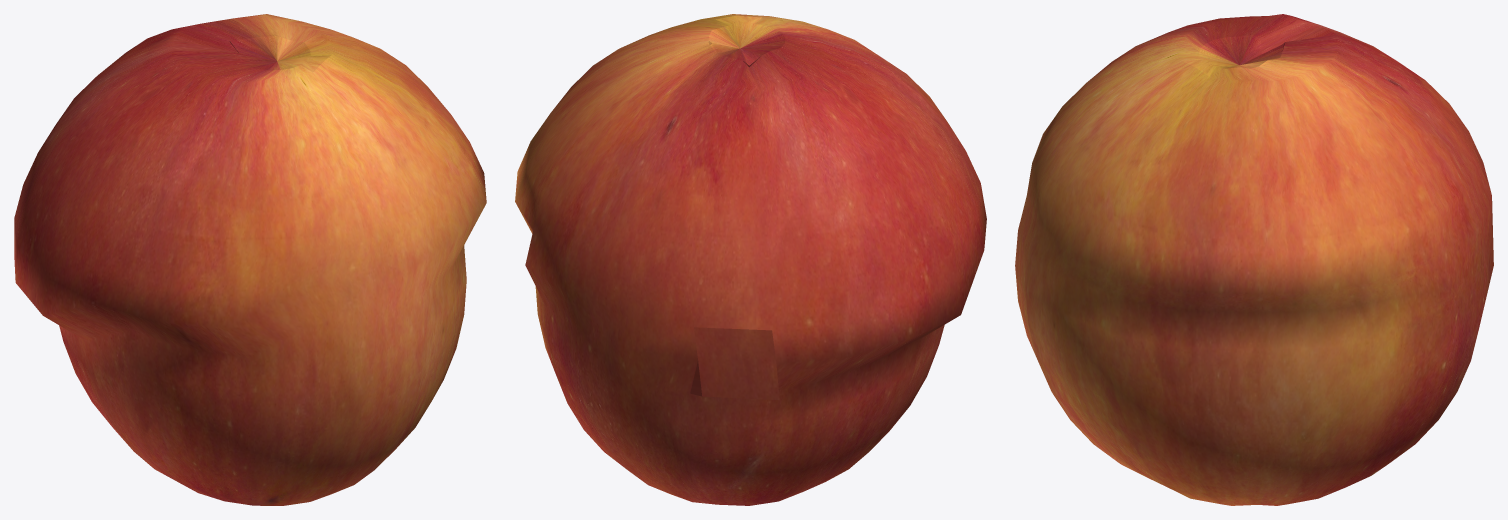
The model's file is apple2.obj.
3 views of the same model, side by side, from view 1: azimuth 30°, elevation 25°; view 2: azimuth 150°, elevation 25°; view 3: azimuth 270°, elevation 25° (orthographic).
Visible parts, largest first — view 1: pSphere1; view 2: pSphere1; view 3: pSphere1.
Boxes of the visible parts, x1,y1,x2,y2 form: pSphere1: [14, 14, 486, 505]; pSphere1: [515, 14, 986, 505]; pSphere1: [1015, 14, 1493, 505].
Size of the model in its own units: 4.65 by 4.67 by 4.57.
Materials: 1 (1 with a texture image).
